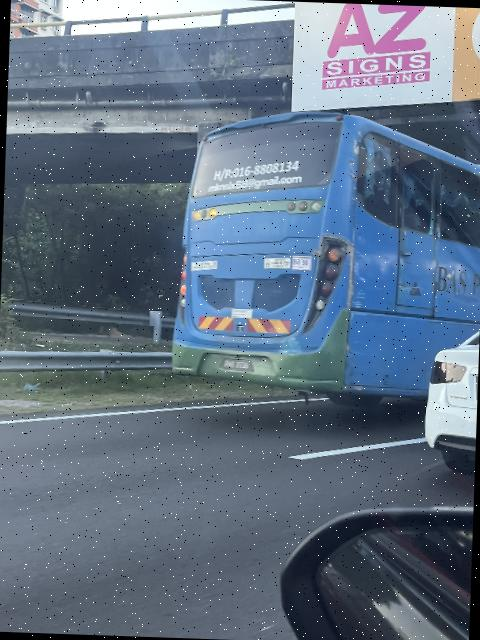License_Plate: (216, 357, 261, 378)
car: (418, 328, 480, 467)
